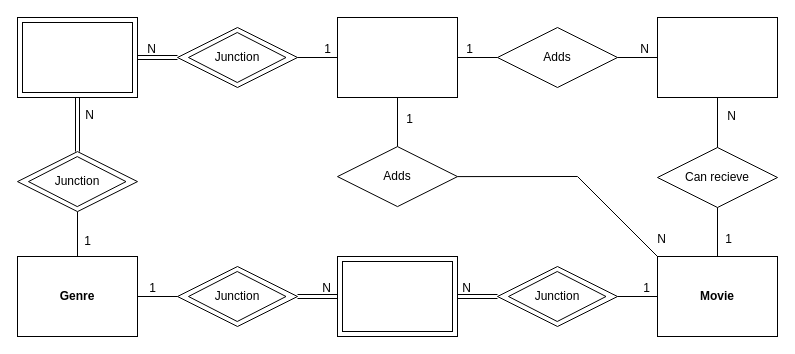
This 795x354 diagram has some shape labels left out. The shapes that lost their labels are listed below. From the top down, each one's centre as x and y in pixels, then its label:
the point at 77,57: PersonGenre
the point at 397,57: Person
the point at 717,57: MovieRating
the point at 397,296: MovieGenre
